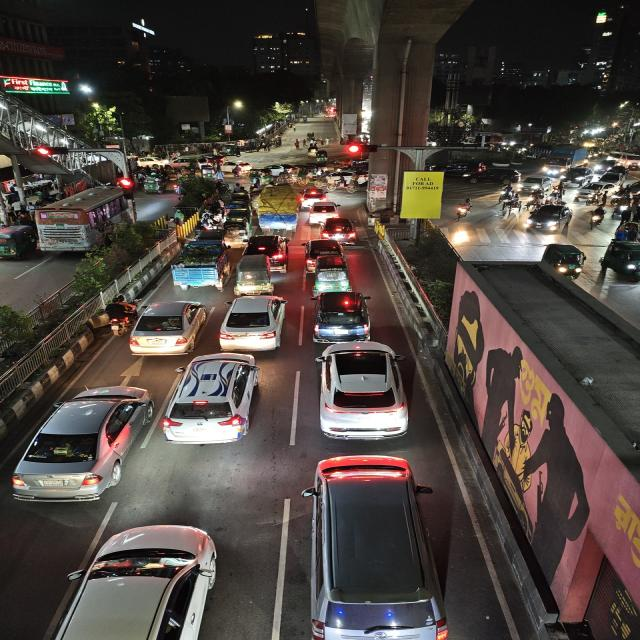bus: (32, 188, 134, 255)
car: (298, 454, 447, 640), (33, 520, 229, 640), (8, 381, 154, 508), (310, 339, 413, 445), (160, 352, 267, 452), (128, 297, 208, 357), (217, 293, 292, 353), (310, 290, 376, 342), (242, 232, 293, 264), (524, 203, 574, 235), (319, 216, 359, 244), (464, 168, 520, 188), (300, 239, 344, 262), (306, 202, 342, 222), (518, 175, 558, 192), (561, 166, 593, 186), (612, 150, 640, 170), (299, 185, 331, 202), (218, 161, 252, 174), (575, 185, 600, 201)
cng: (538, 240, 590, 284), (234, 253, 275, 295), (312, 254, 353, 295), (602, 241, 640, 282), (0, 224, 33, 262), (314, 151, 330, 163), (306, 148, 318, 157)
motorcycle: (100, 294, 137, 336), (452, 197, 474, 222), (585, 206, 606, 230), (230, 165, 246, 178)
pickup_van: (253, 185, 302, 232)
rickshaw: (169, 238, 231, 292), (222, 220, 252, 247), (328, 174, 361, 192), (271, 170, 306, 184), (500, 196, 523, 216)
truck: (542, 146, 589, 176)
